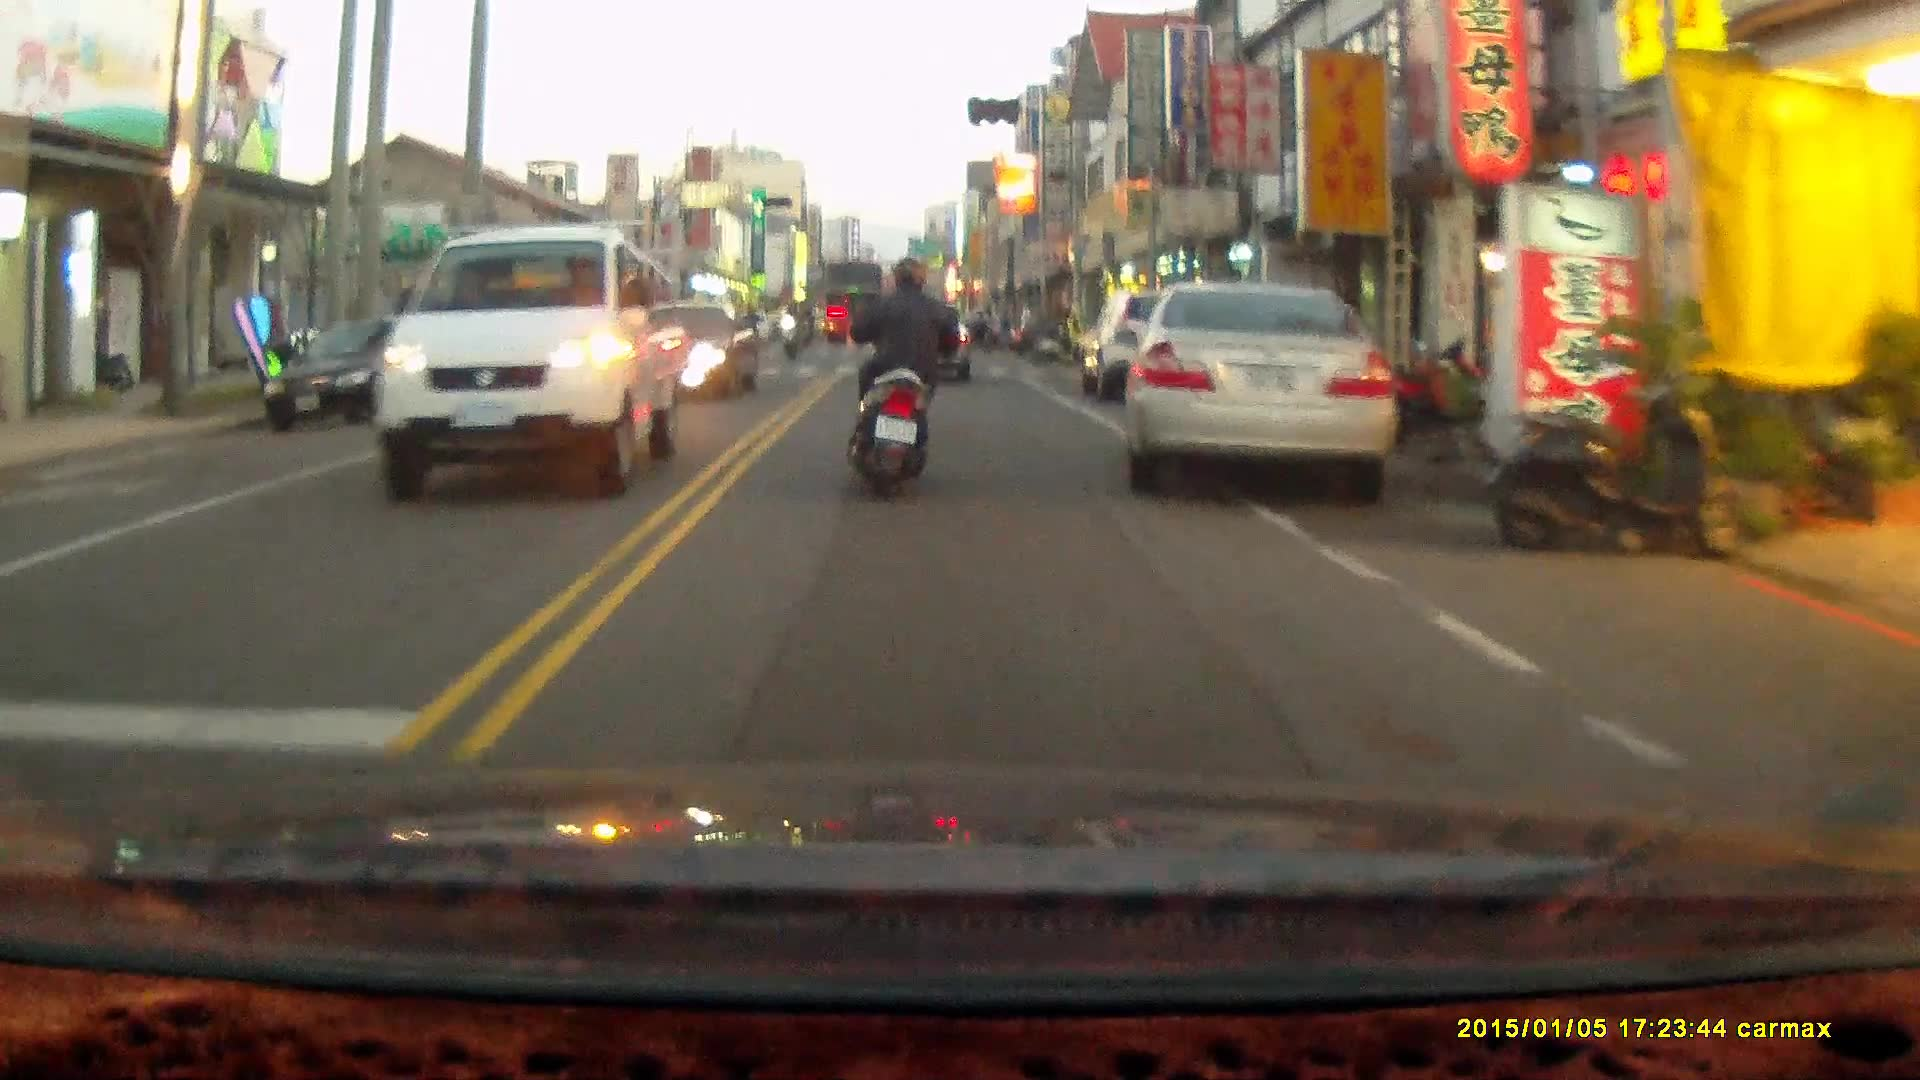pedestrian: (1059, 300, 1082, 369)
rider: (845, 255, 970, 501), (778, 303, 802, 362)
vehicle: (370, 220, 686, 497), (1121, 270, 1403, 490), (264, 308, 454, 419), (820, 251, 889, 334)
